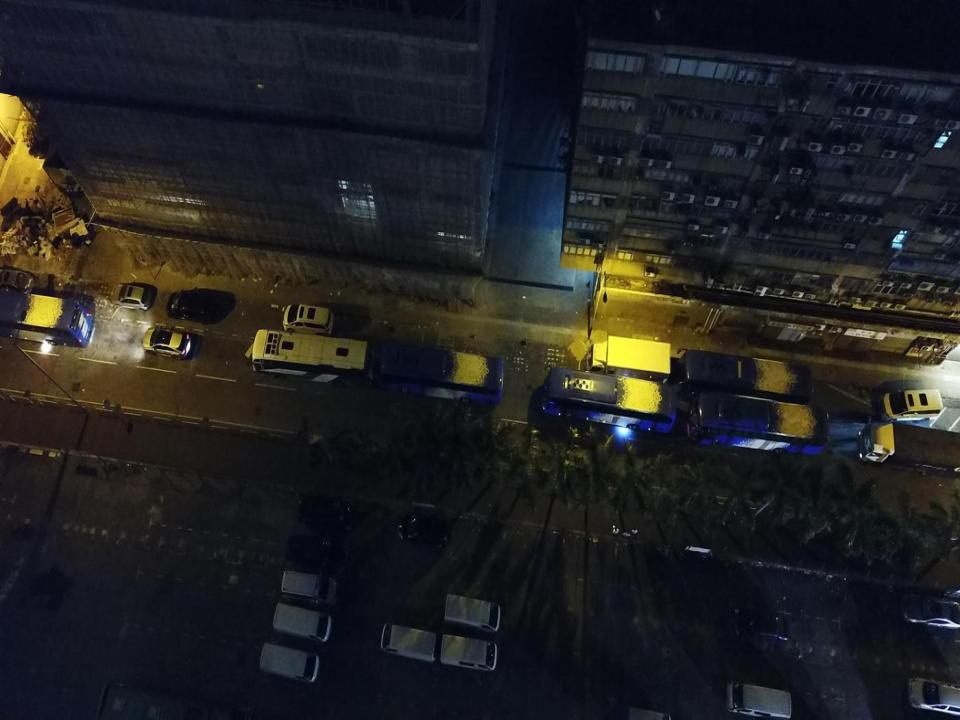bus: (542, 369, 679, 438), (689, 392, 828, 460), (376, 340, 504, 406), (677, 349, 814, 406), (252, 330, 373, 386), (0, 291, 96, 348)
car: (731, 606, 788, 648), (296, 494, 355, 534), (904, 674, 960, 716), (899, 593, 960, 631), (398, 512, 452, 551), (282, 301, 334, 336), (165, 288, 215, 321), (143, 326, 192, 359), (116, 283, 153, 312), (0, 267, 36, 294)
truck: (857, 420, 960, 480), (588, 336, 672, 385)
van: (726, 680, 794, 719), (272, 600, 330, 645), (260, 642, 318, 686), (440, 633, 499, 675), (379, 623, 438, 665), (444, 592, 502, 634), (289, 526, 347, 568), (882, 387, 942, 422), (281, 569, 338, 604)
